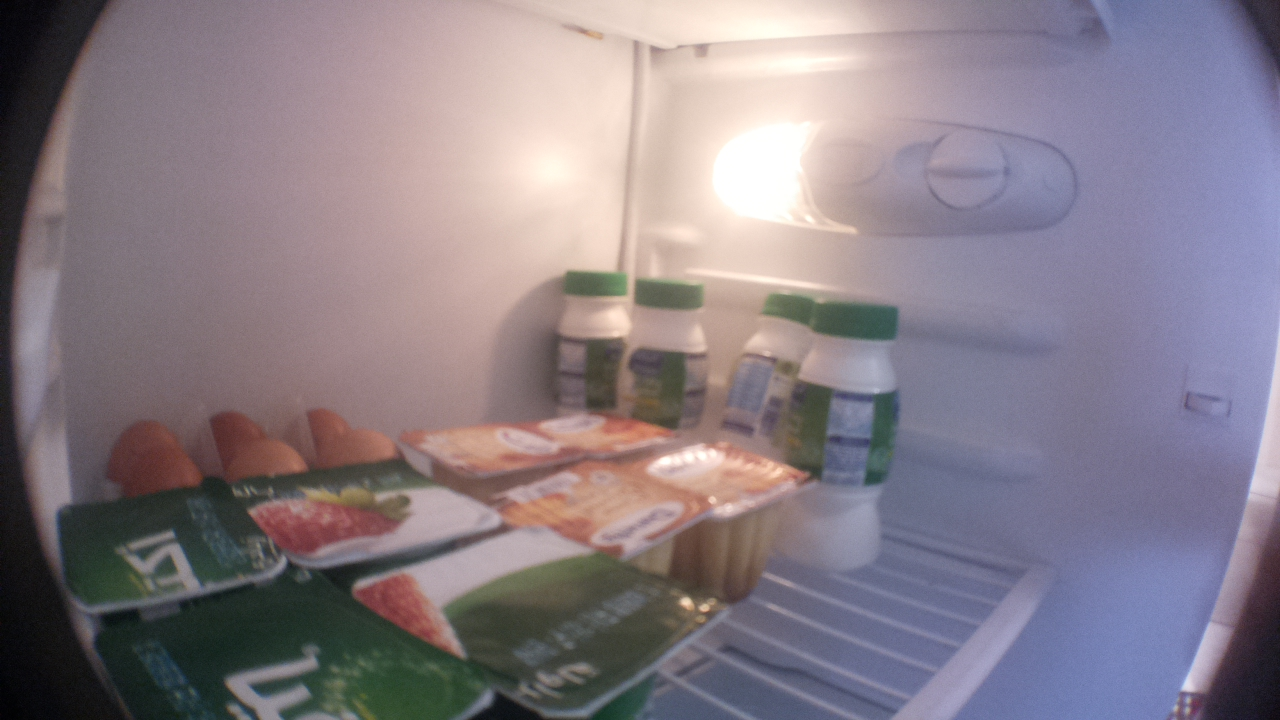caramel: (497, 458, 706, 573), (664, 440, 809, 597), (401, 413, 582, 478), (532, 415, 680, 460)
egg: (319, 423, 396, 477), (96, 414, 174, 466), (120, 445, 207, 490), (227, 428, 307, 475), (196, 408, 285, 447), (286, 402, 347, 449)
laban: (768, 296, 903, 568), (706, 286, 825, 455), (620, 279, 712, 426), (548, 265, 626, 417)
yoghurt: (352, 521, 713, 716), (90, 567, 489, 720), (56, 483, 278, 616), (225, 470, 497, 568)
